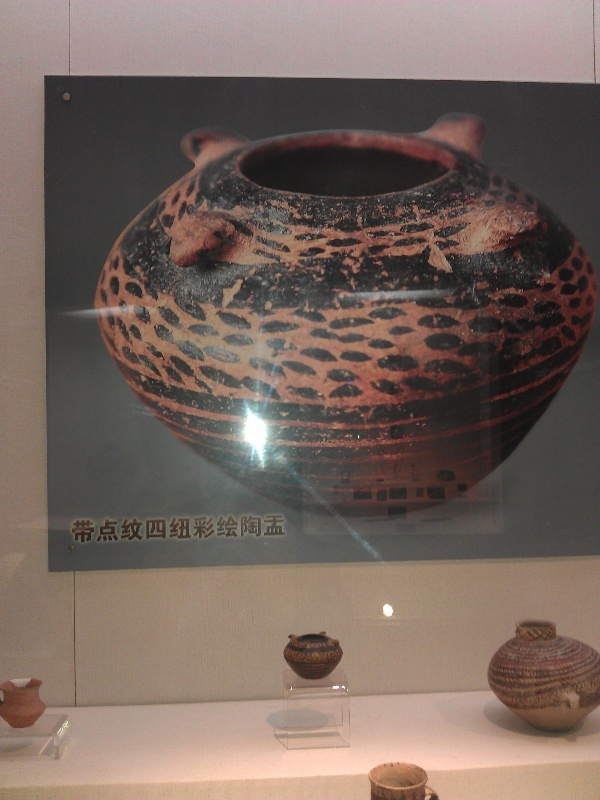text: (81, 514, 96, 544), (97, 514, 112, 544), (113, 514, 128, 544), (129, 514, 144, 544), (145, 514, 160, 544), (161, 514, 176, 544), (177, 514, 192, 544), (193, 514, 208, 544), (209, 514, 224, 544), (225, 514, 240, 544), (241, 514, 256, 544), (257, 514, 272, 544), (273, 514, 286, 544), (71, 514, 80, 544)
